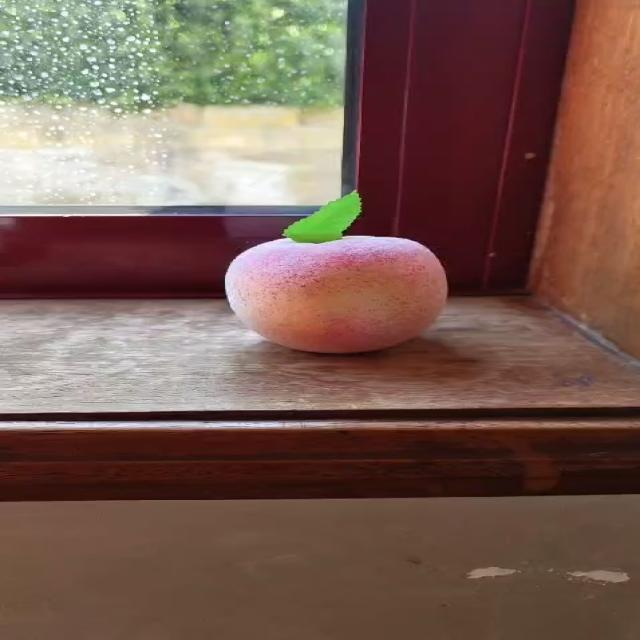peach: (225, 191, 447, 352)
